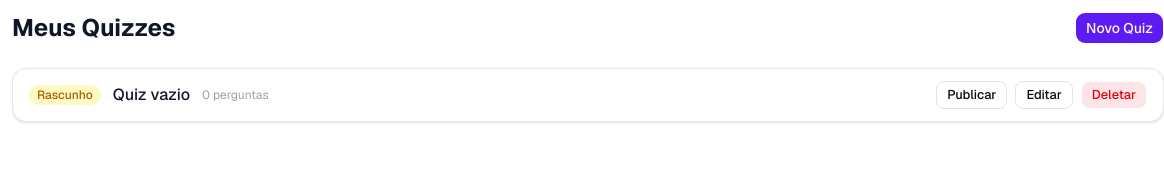
Test: QuizzesPage › when publish is clicked on quiz with 0 questions › should show error message
Click the button "Publicar" at (972, 95), box [936,81,1007,109]
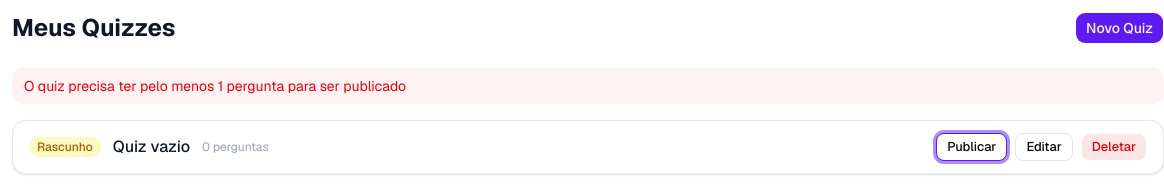
Result: the text "O quiz precisa ter pelo menos 1 pergunta para ser publicado" is shown at [12,68,1163,104]
